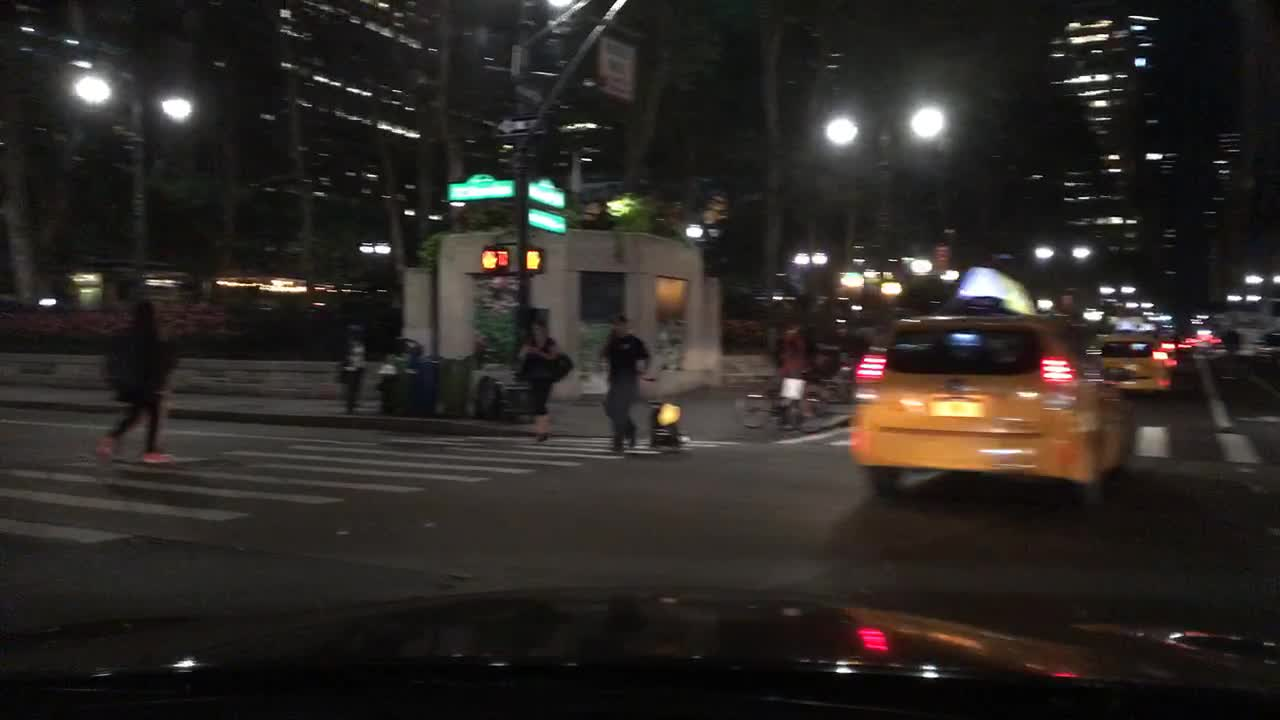bike: (735, 387, 805, 430)
car: (842, 262, 1131, 499), (1100, 328, 1171, 397), (1101, 284, 1157, 354), (1180, 320, 1233, 372), (1160, 331, 1193, 374), (1251, 328, 1278, 362)
motor: (375, 335, 478, 418)
person: (92, 265, 175, 464), (593, 311, 653, 452), (507, 315, 573, 438), (332, 315, 372, 416), (775, 330, 809, 431)
traffic light: (480, 246, 502, 274), (528, 250, 544, 277)
traffic sign: (599, 39, 641, 98), (440, 173, 513, 202), (490, 109, 544, 134), (529, 179, 567, 206), (528, 208, 567, 234), (930, 244, 946, 270)
